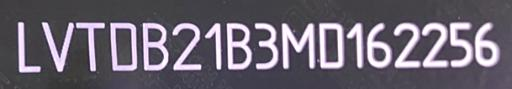letter: (38, 18, 76, 75), (280, 21, 316, 70), (107, 19, 139, 74), (170, 21, 204, 72), (75, 21, 107, 74), (315, 20, 347, 69), (15, 18, 43, 73), (446, 18, 476, 69), (140, 21, 170, 72), (420, 20, 450, 69), (392, 20, 422, 69), (224, 22, 254, 71), (251, 21, 279, 72), (474, 19, 502, 68), (366, 20, 394, 69), (202, 20, 226, 71), (346, 20, 366, 69)
